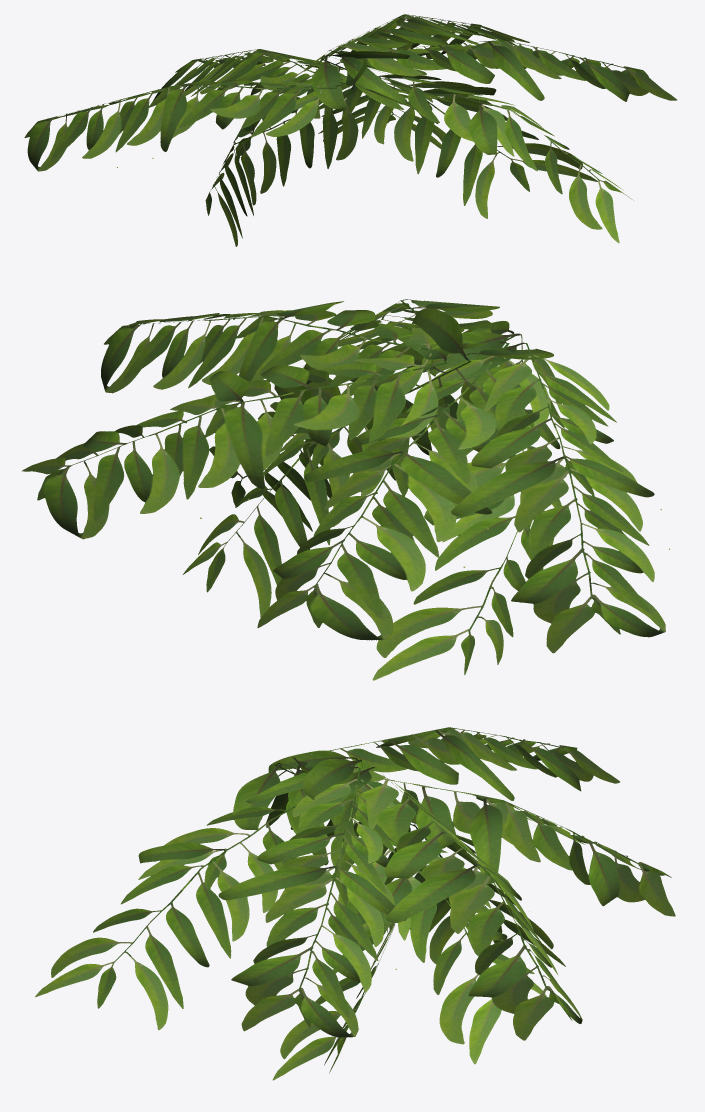
Rendered from BushPart01.dae.
3 renders of one model, top to bottom at view 1: azimuth 30°, elevation 25°; view 2: azimuth 150°, elevation 25°; view 3: azimuth 270°, elevation 25°, orthographic. The views are drawn at different scales.
Visible parts, largest first — view 1: polySurface240; view 2: polySurface240; view 3: polySurface240.
Part boxes in pixels (<box>): polySurface240: <box>24,14,676,246</box>; polySurface240: <box>22,299,669,680</box>; polySurface240: <box>35,727,675,1080</box>.
Size of the model in its own units: 3.17 by 1.25 by 2.86.
1 material, 1 textured.
